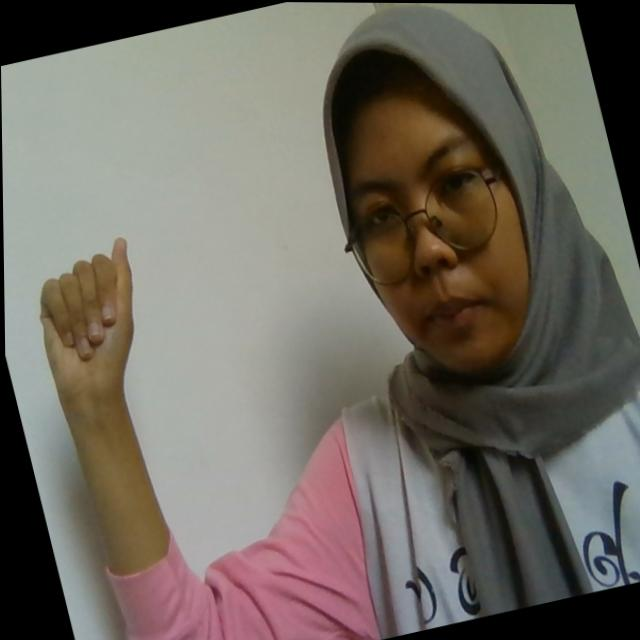A: (22, 235, 162, 402)
